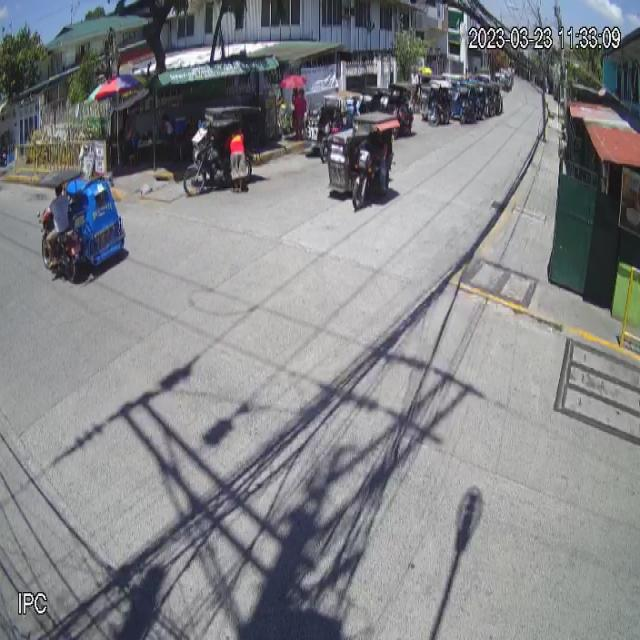Tricycle: (36, 168, 128, 284), (326, 110, 400, 213)
